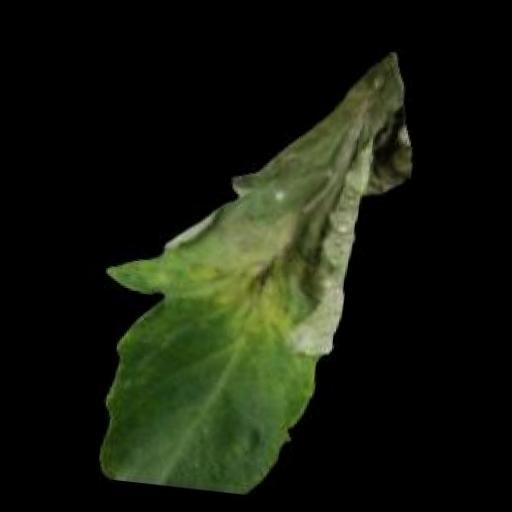Late Blight: (79, 14, 430, 509)
